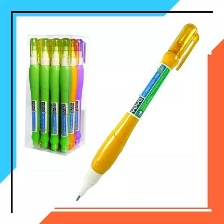correction_fluid: (73, 21, 202, 204), (70, 38, 87, 145), (47, 36, 62, 152), (27, 36, 42, 148), (57, 36, 70, 152), (38, 35, 51, 150), (67, 37, 80, 150)
plastic_box: (20, 32, 92, 157)
